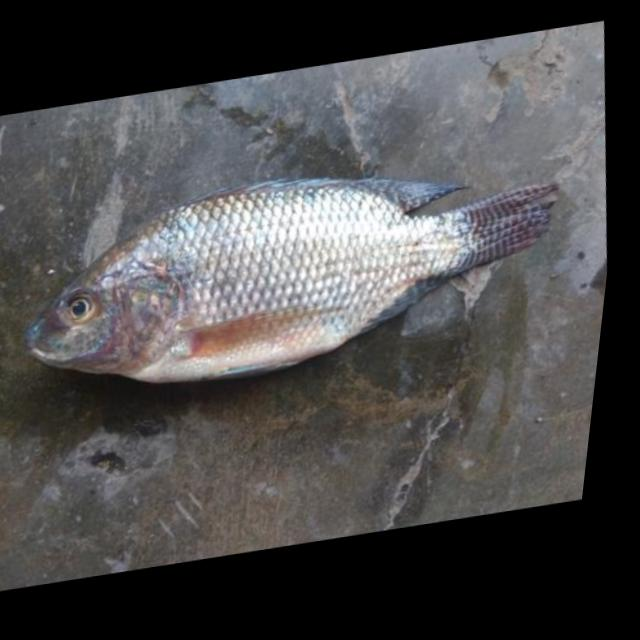Tilapia: (5, 135, 581, 409)
